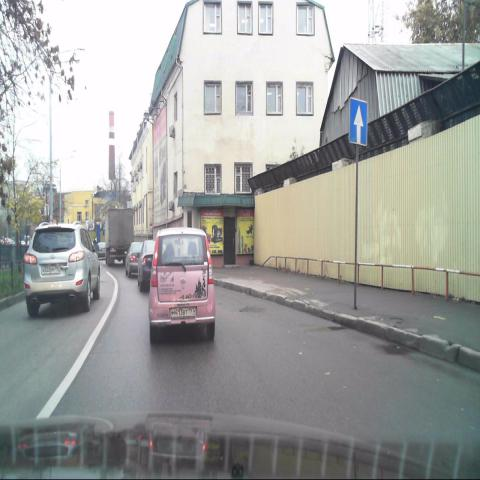5_5: (348, 96, 368, 146)
